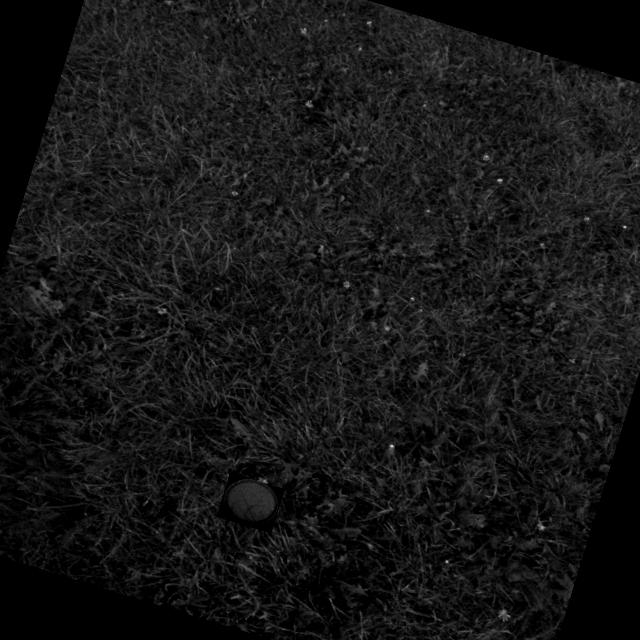Bottle cap: (223, 480, 279, 527)
